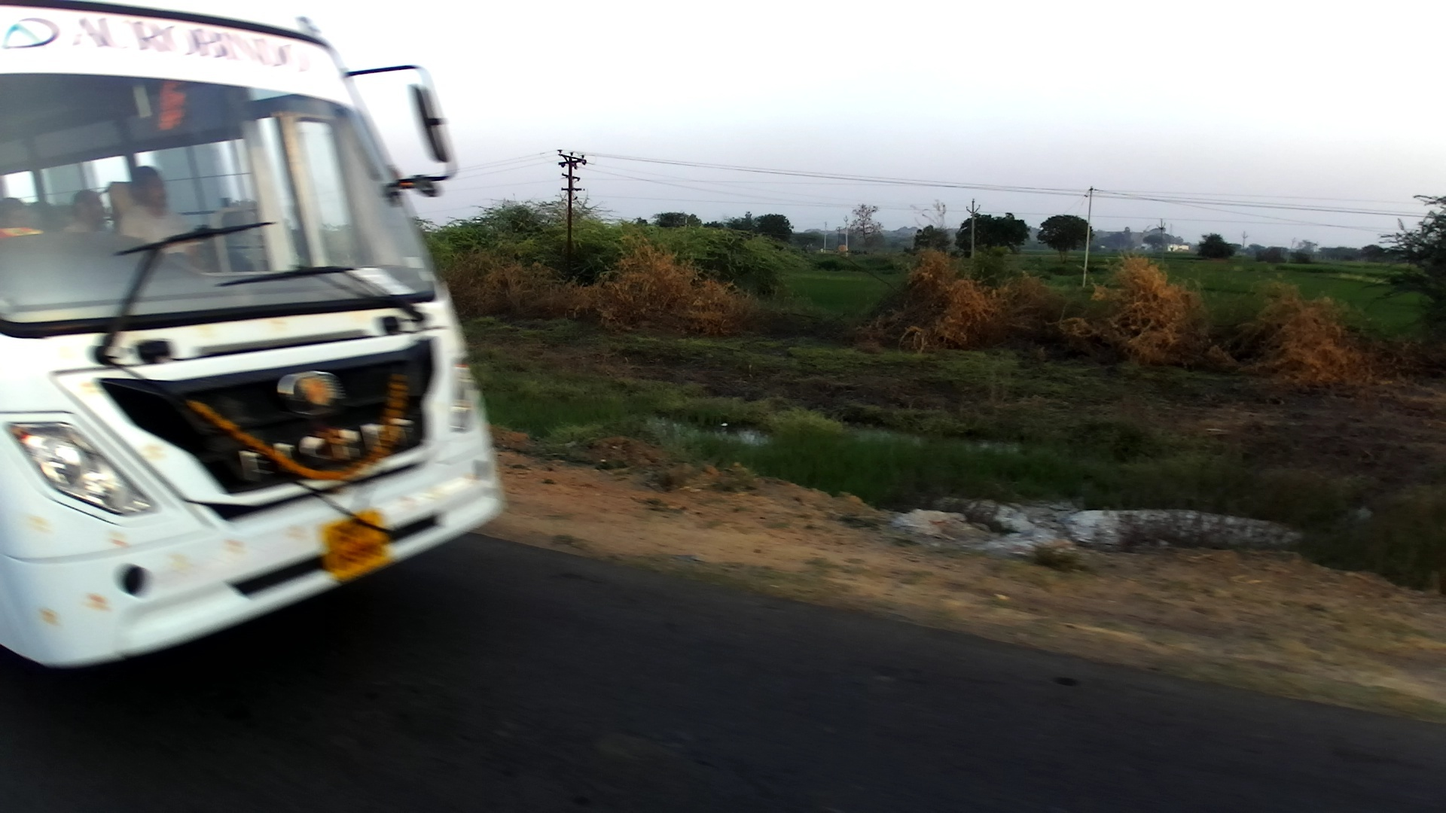bus: (1, 2, 507, 678)
